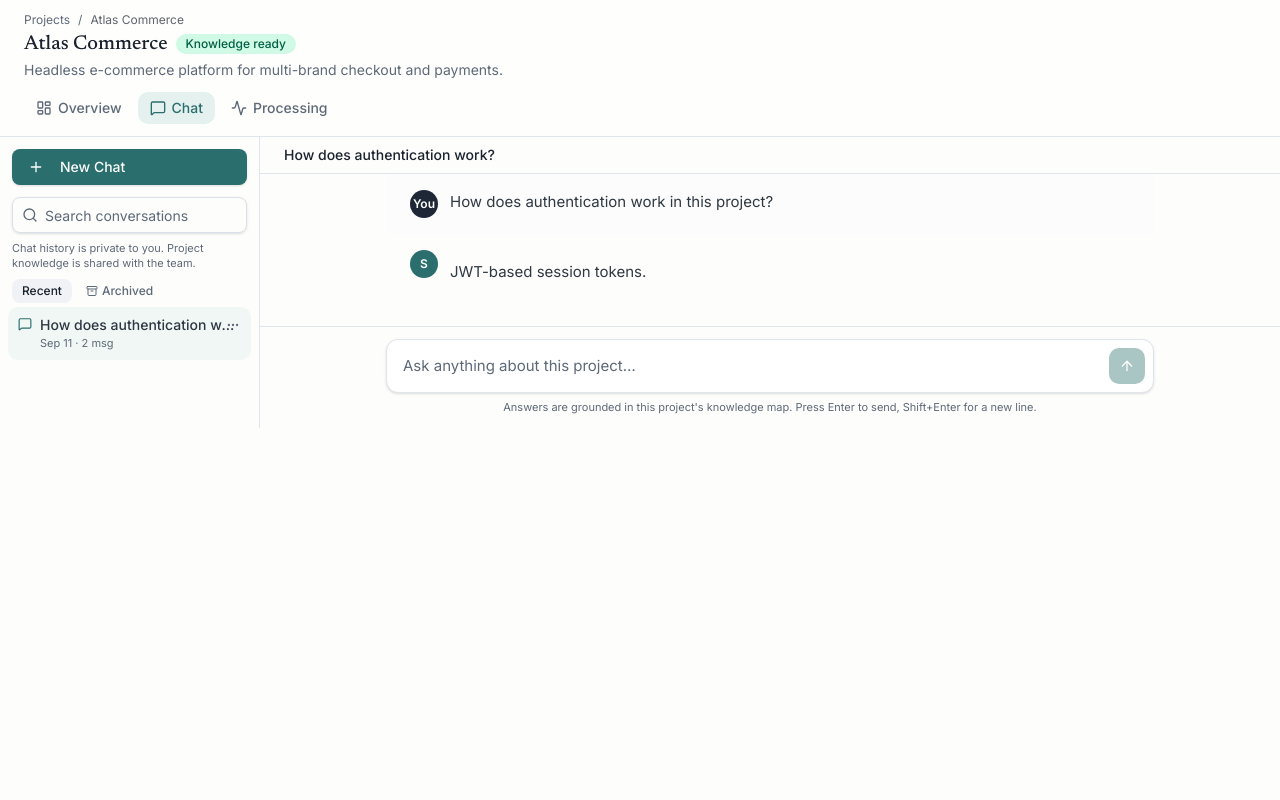
Test: ChatWorkspace › stops an in-flight stream
expect the text "JWT-based session tokens." is shown: met, box [450, 262, 646, 281]
Type "Long question" into the text box with placeholder "Ask anything about this project…" at (748, 366), box [395, 348, 1101, 384]
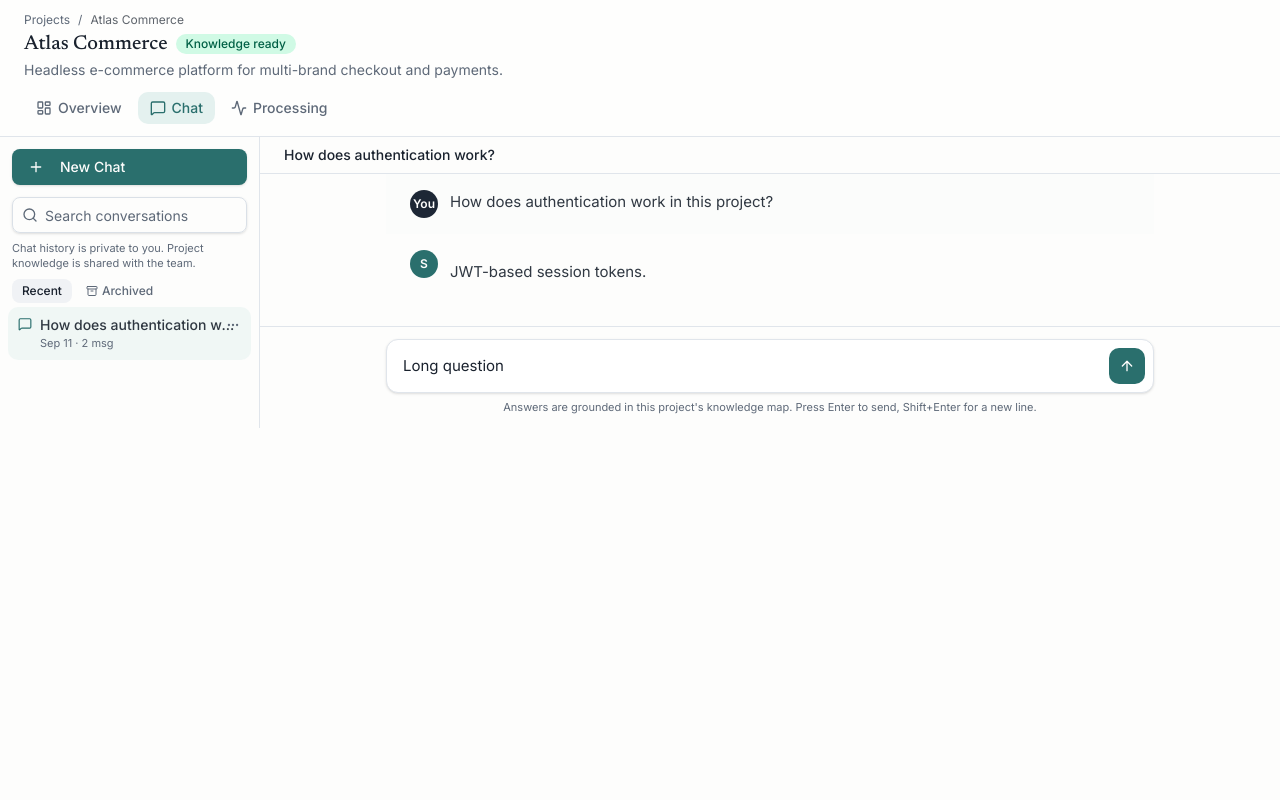
Click the button named "Send" at (1127, 366), box [1109, 348, 1145, 384]
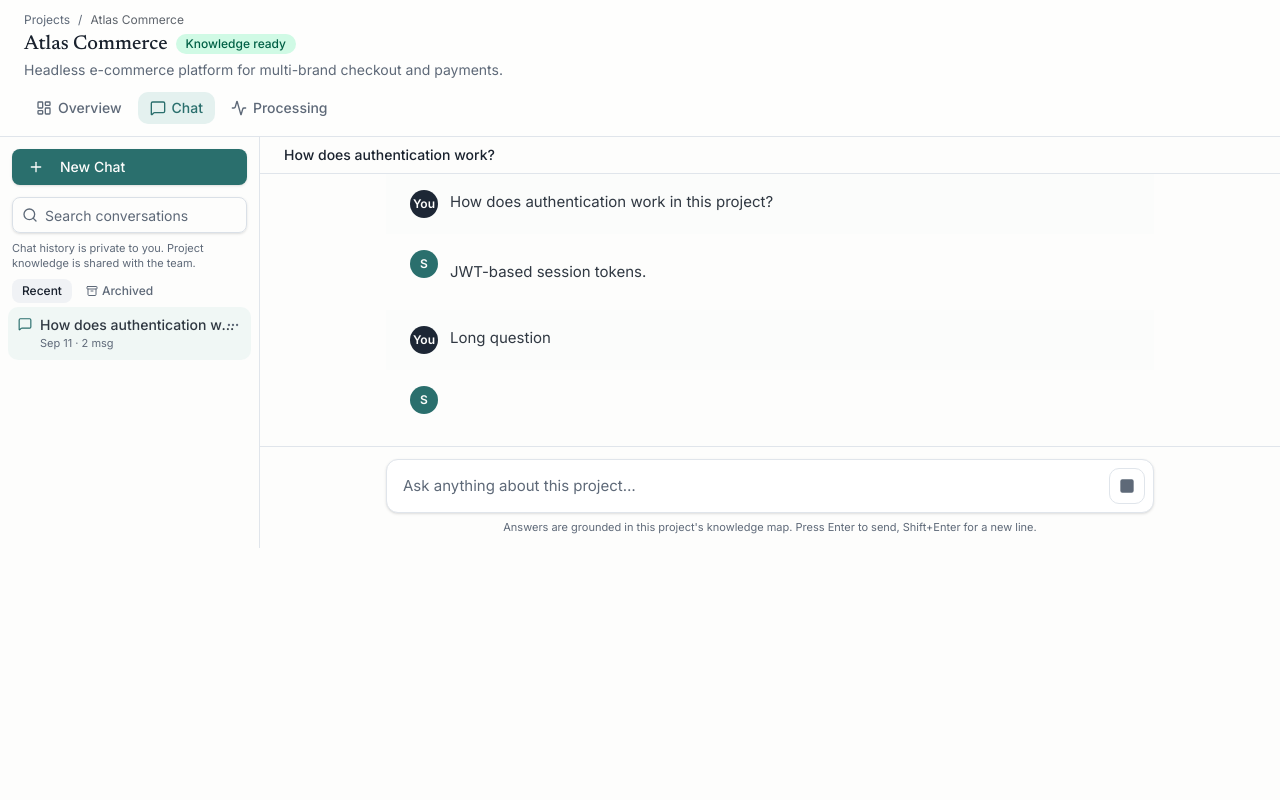
expect the button named "Stop" is shown: met
Click the button named "Stop" at (1127, 486), box [1109, 468, 1145, 504]
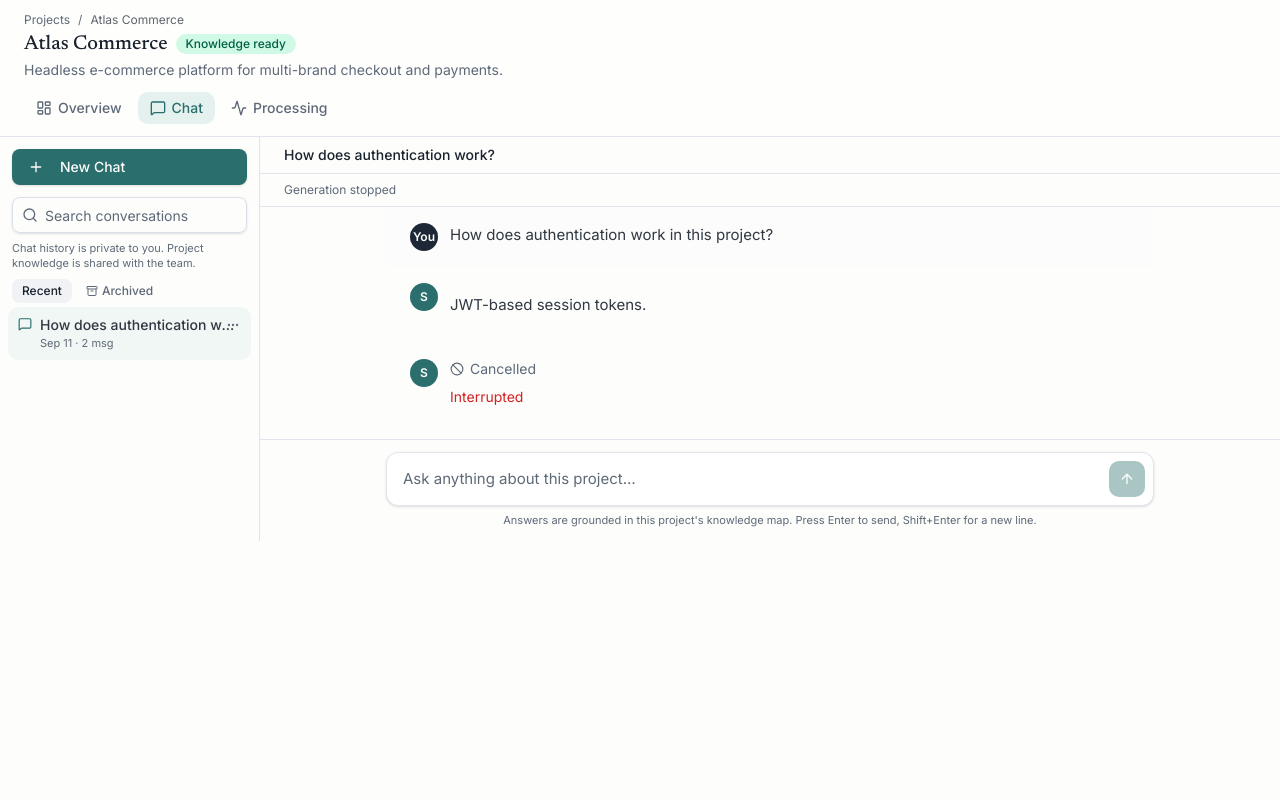
expect the text "Generation stopped" is shown: met, box [260, 174, 1279, 207]
